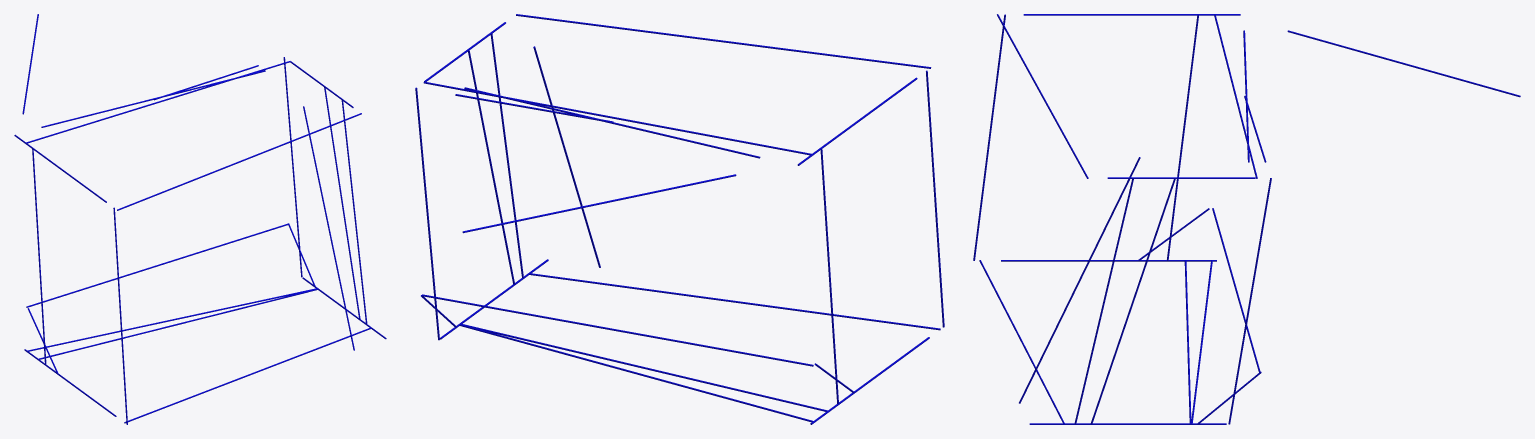
The model's file is corrected_3d_strokes.glb.
3 renders of one model, left to right at view 1: azimuth 30°, elevation 25°; view 2: azimuth 150°, elevation 25°; view 3: azimuth 270°, elevation 25°, orthographic. The views are drawn at different scales.
Visible parts, largest first — view 1: world; view 2: world; view 3: world.
Boxes of the visible parts, x1,y1,x2,y2 form: world: (14,14,386,424); world: (415,14,944,424); world: (973,14,1520,424).
Bounding box in the file's own units: 8.43 × 5.93 × 11.89.
